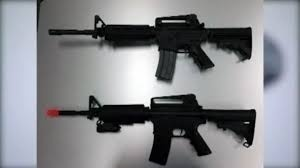pistol: (44, 11, 256, 83), (45, 98, 256, 162)
